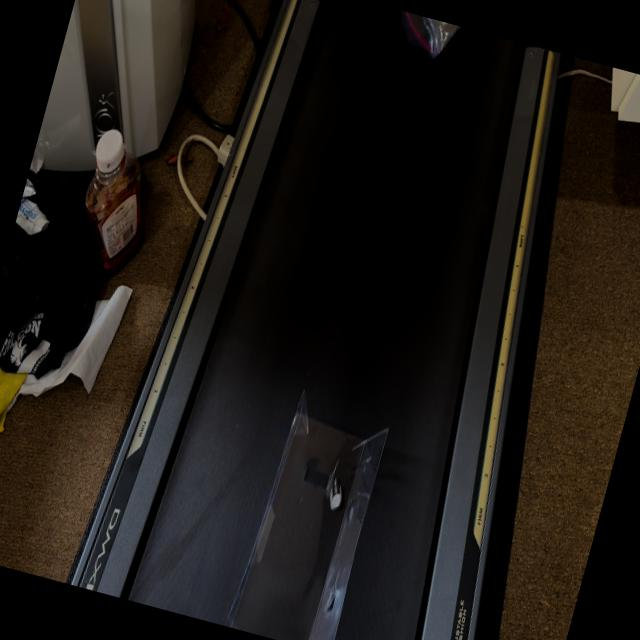Trash: (212, 367, 406, 640), (398, 13, 469, 73)
